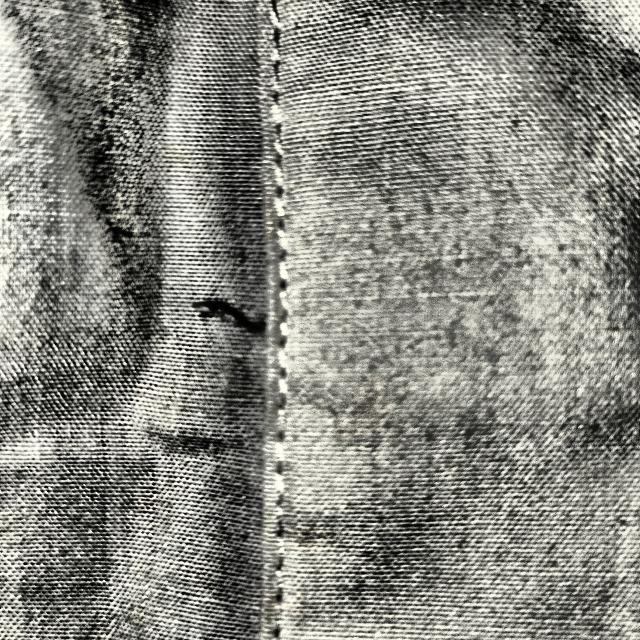gray stitch: (165, 260, 379, 388)
